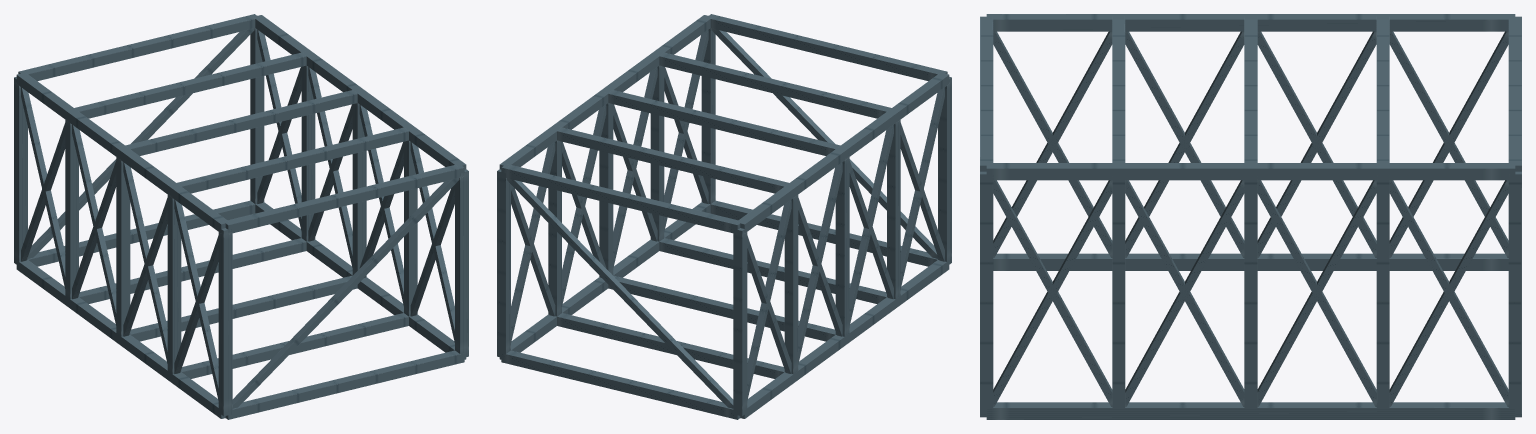
File: TorusStructure_FrameA.obj
The picture shows the model from 3 angles, left to right: view 1: azimuth 30°, elevation 25°; view 2: azimuth 150°, elevation 25°; view 3: azimuth 270°, elevation 25°; orthographic projection. The views are drawn at different scales.
Visible parts, largest first — view 1: TorusStructure_FrameA; view 2: TorusStructure_FrameA; view 3: TorusStructure_FrameA.
Part boxes in pixels (<box>): TorusStructure_FrameA: <box>14,14,468,419</box>; TorusStructure_FrameA: <box>497,14,951,419</box>; TorusStructure_FrameA: <box>980,14,1521,419</box>.
Bounding box in the file's own units: 2.08 × 1.58 × 3.08.
Materials: 1 (1 with a texture image).
